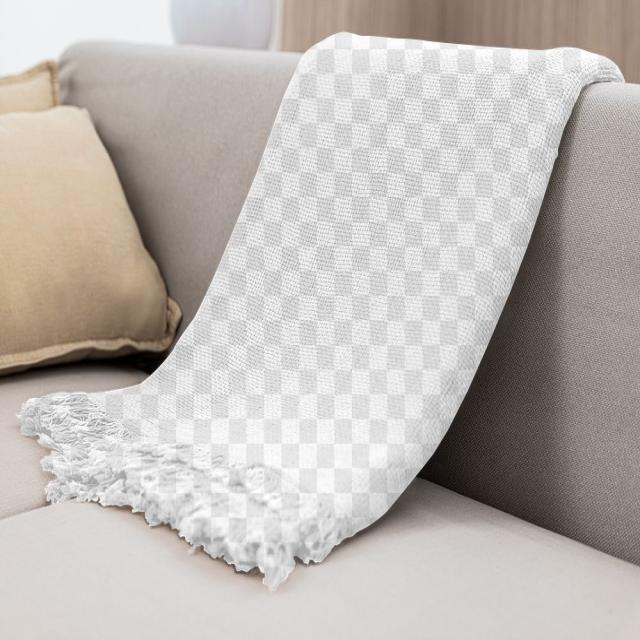blanket: (21, 35, 622, 586)
